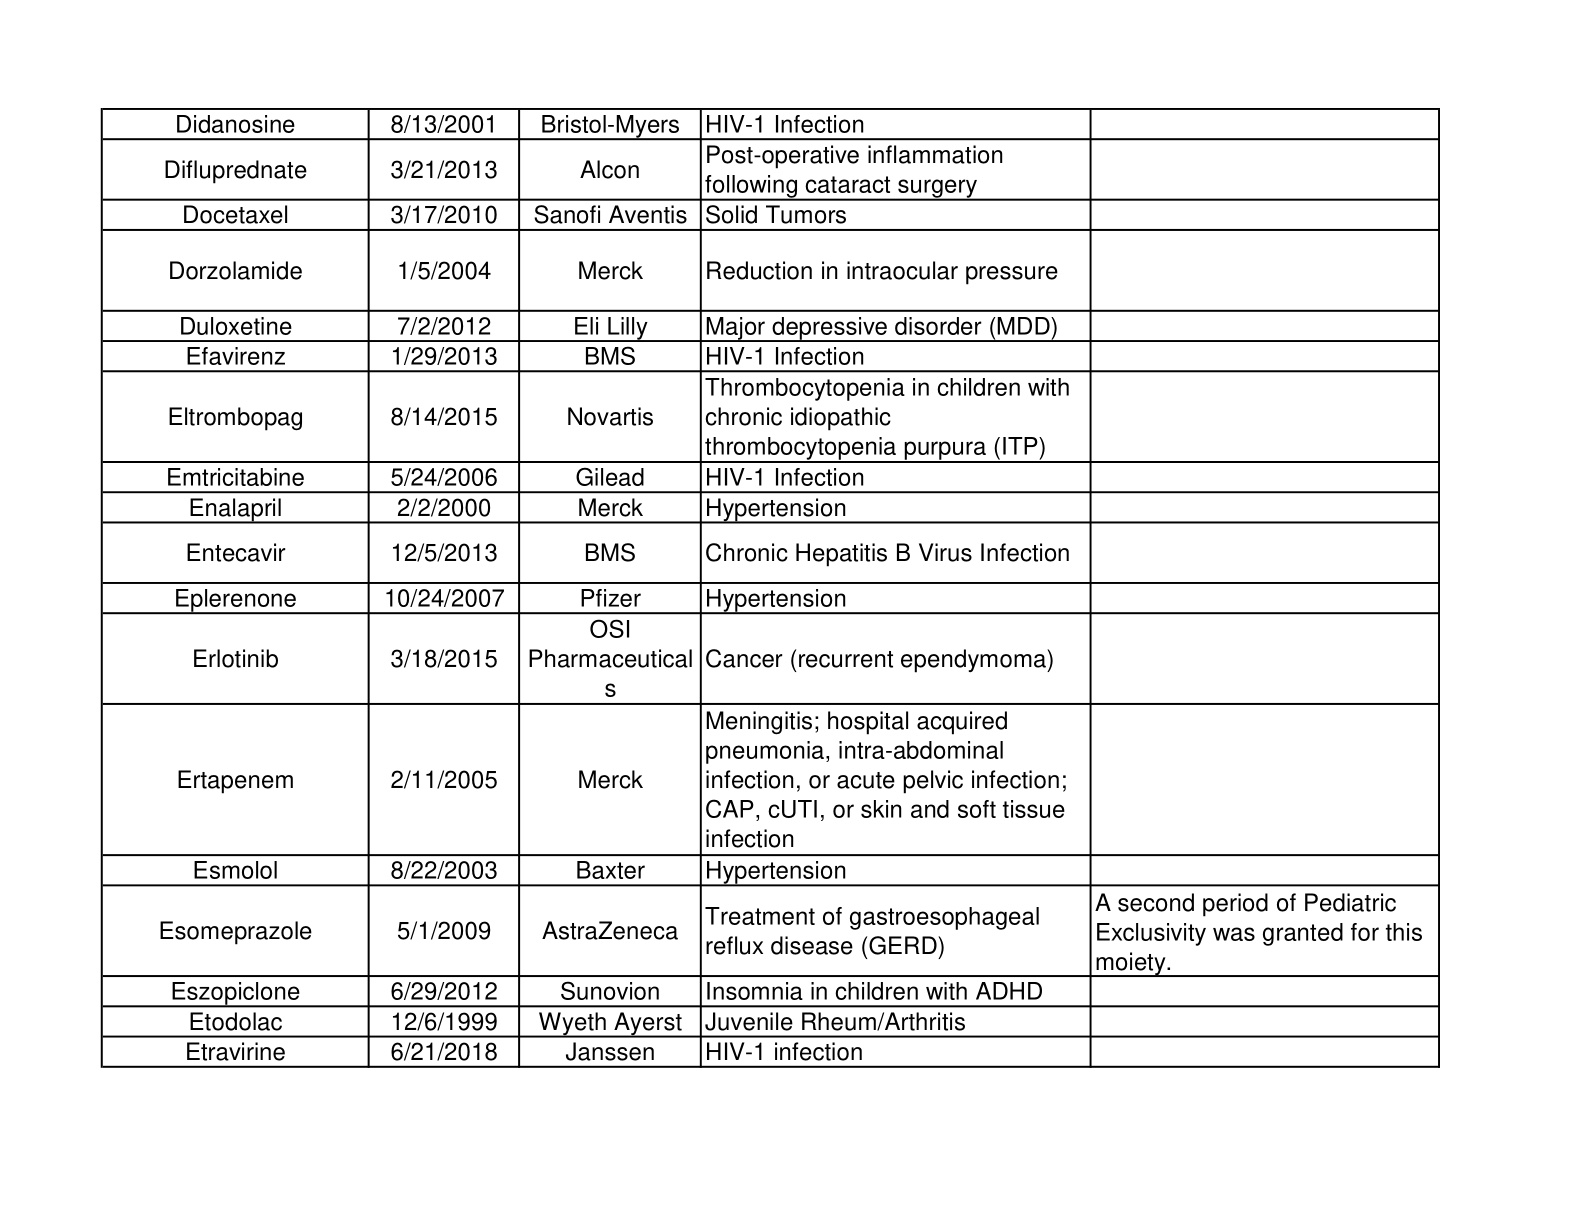full_lined: (99, 105, 1440, 1068)
